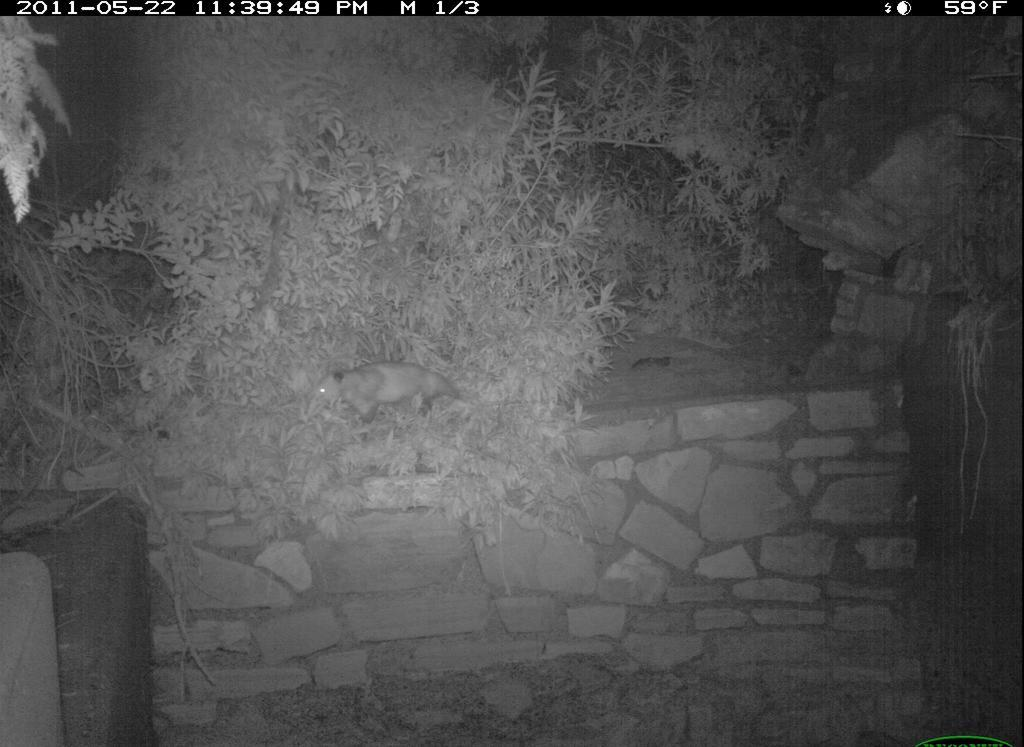opossum: (295, 361, 482, 424)
